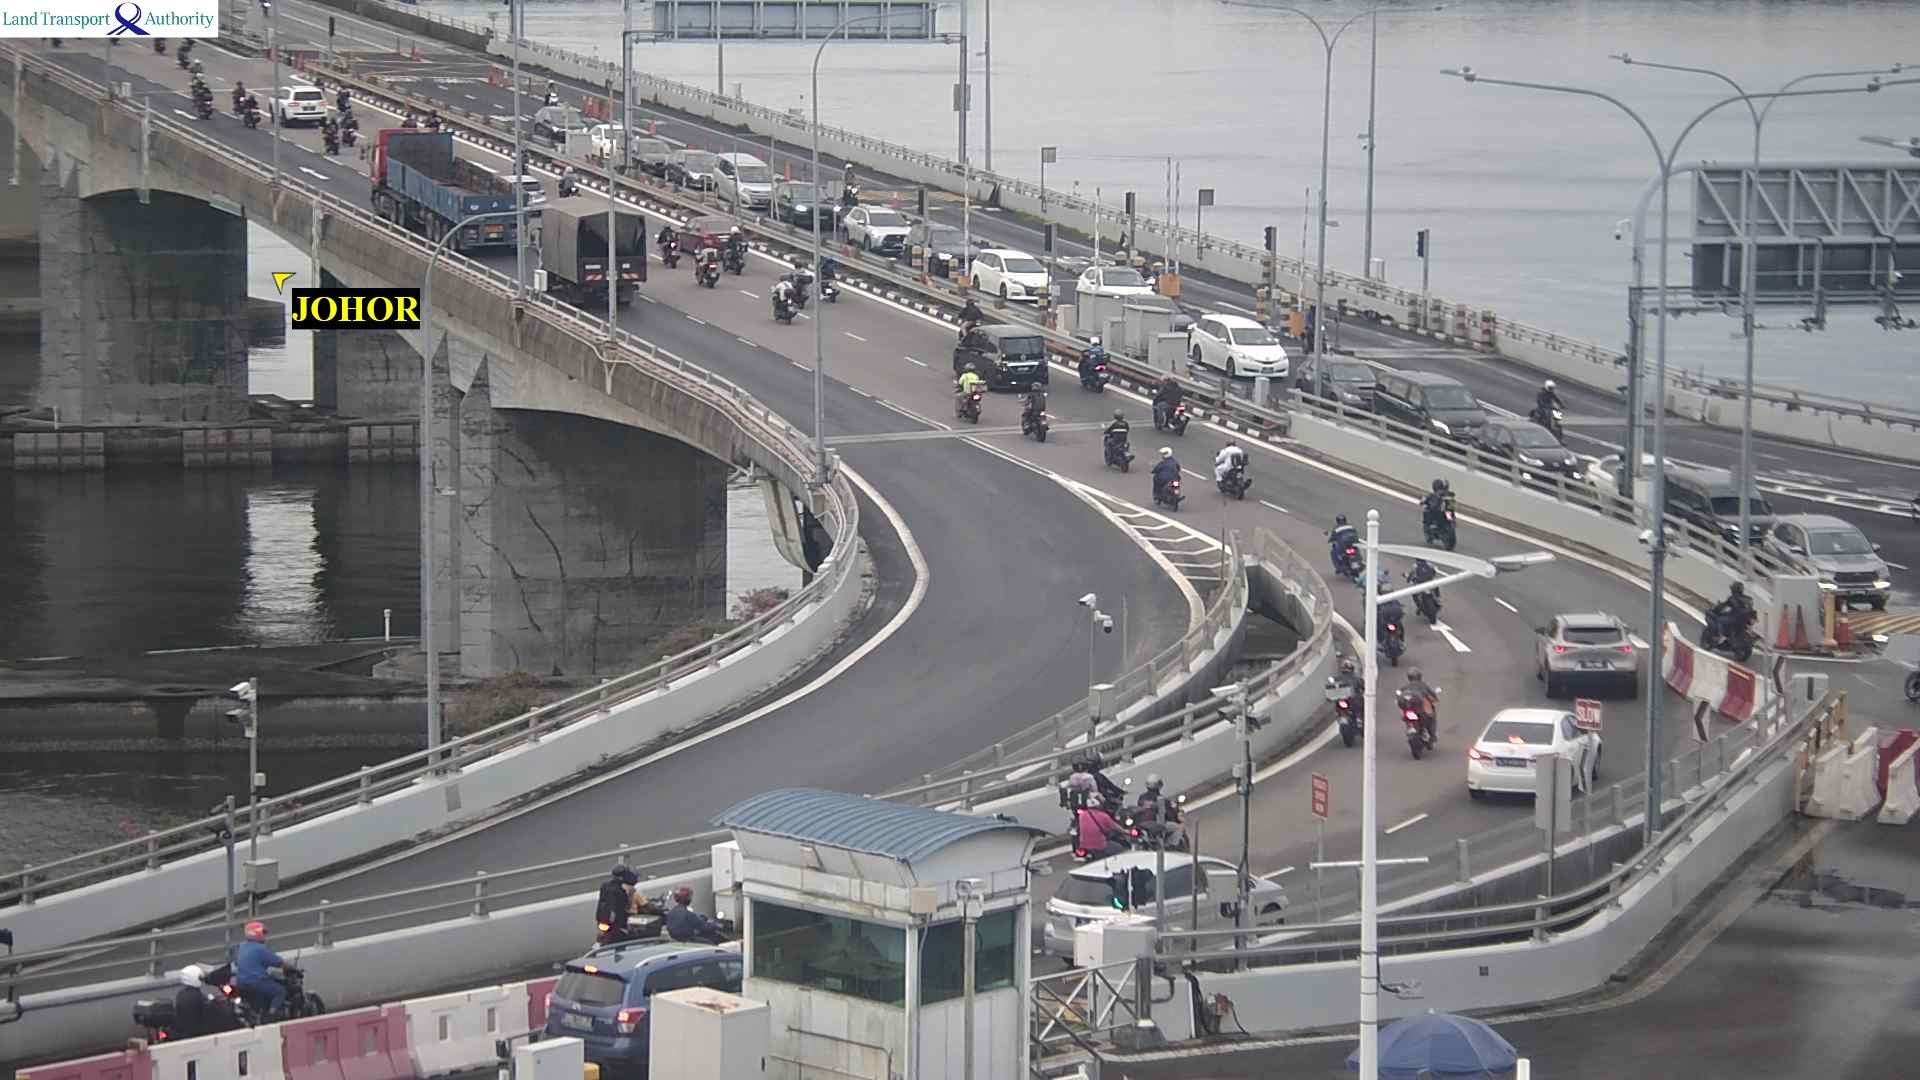vehicle-secondlink-johor: (382, 128, 556, 260), (1038, 770, 1200, 881), (558, 939, 753, 1026), (140, 949, 324, 1040), (1039, 857, 1275, 920), (1461, 703, 1601, 802), (1548, 612, 1651, 700), (563, 202, 644, 310), (965, 327, 1065, 386), (1879, 728, 1920, 831), (601, 865, 654, 934), (1335, 663, 1373, 744), (1406, 674, 1441, 750), (270, 91, 347, 127), (1423, 477, 1461, 546), (1097, 422, 1139, 472), (1217, 444, 1250, 498), (1336, 518, 1366, 576), (1153, 452, 1183, 508), (770, 276, 803, 323), (1155, 390, 1192, 433), (1019, 402, 1058, 442), (1083, 334, 1108, 389), (953, 390, 986, 425), (783, 270, 807, 315), (235, 88, 256, 123), (702, 264, 724, 290), (326, 121, 338, 150), (232, 82, 243, 105), (193, 73, 202, 99)
vehicle-secondlink-singapore: (1290, 357, 1478, 406), (1196, 320, 1312, 378), (1762, 518, 1895, 560), (1374, 381, 1494, 427), (1476, 434, 1589, 479), (671, 154, 787, 191), (1295, 357, 1395, 397), (965, 257, 1065, 295), (644, 154, 736, 193), (750, 187, 851, 218), (902, 229, 998, 260), (839, 214, 926, 247), (1072, 269, 1156, 302), (680, 225, 748, 257), (1875, 289, 1920, 331), (704, 154, 773, 181), (1534, 381, 1572, 427), (529, 109, 579, 136), (658, 239, 686, 265)
